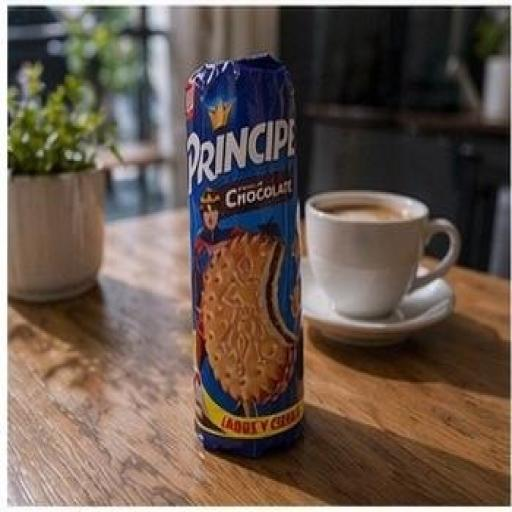prince: (162, 42, 372, 495)
